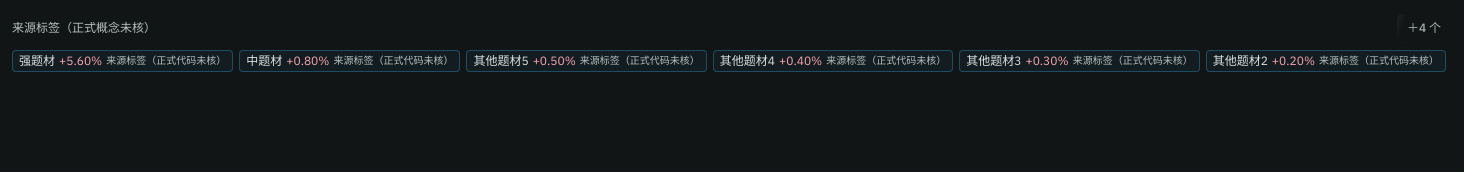
ThemeChipsRow › 多题材按涨跌幅降序排前，超出部分折叠
The width and height of the screenshot is (1464, 172).
Expected: the text "强题材" is shown, 19,53 -> 55,69
Expected: the text "弱题材" is not shown
 展开后全部可见
Click the button "＋4 个" at (1424,28), box 1396,12 -> 1452,44
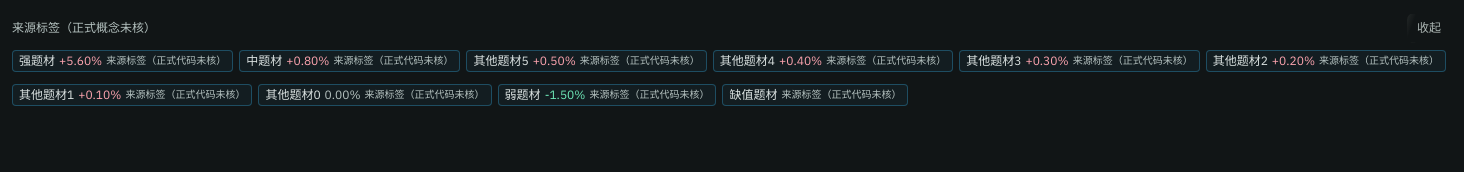
Now the text "缺值题材" is shown, box 729,87 -> 777,103
Now the text "弱题材" is shown, box 505,87 -> 541,103
Now the text "-1.50%" is shown, box 545,87 -> 585,103
